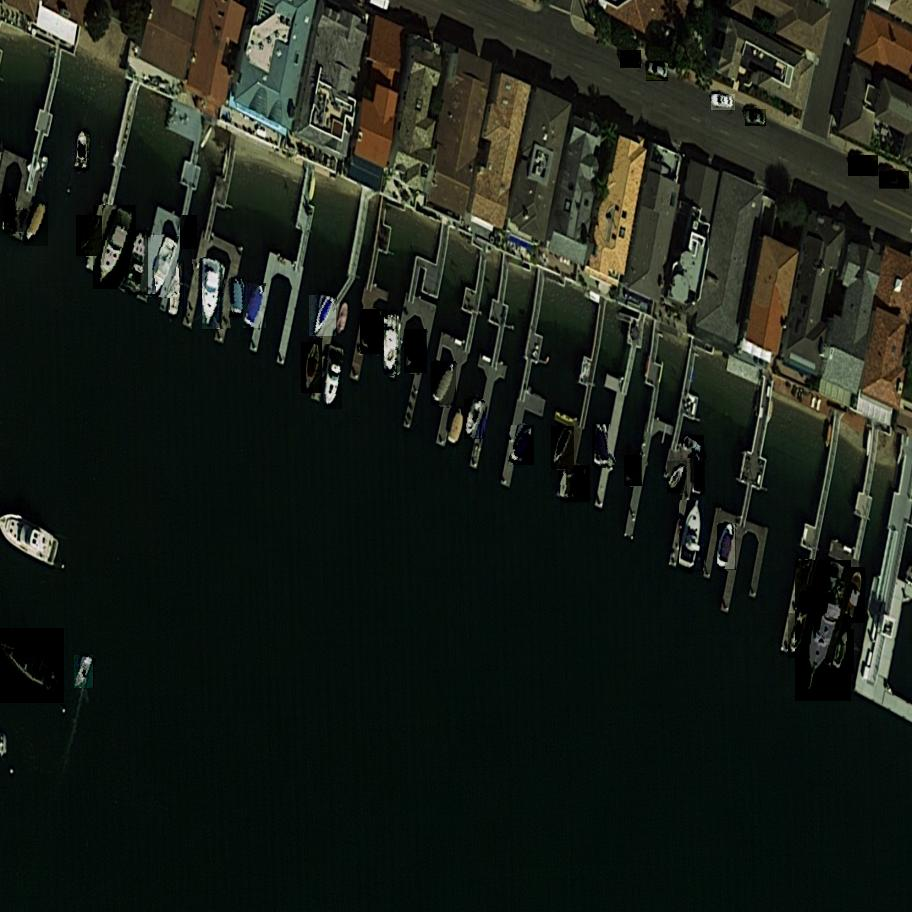ship: (793, 560, 853, 701), (92, 205, 138, 289), (146, 235, 181, 298), (679, 501, 707, 571), (128, 231, 150, 295), (359, 309, 390, 354), (842, 567, 867, 622), (202, 258, 221, 329), (323, 344, 343, 409), (308, 295, 338, 337), (431, 362, 459, 406), (75, 216, 104, 257), (22, 202, 49, 246), (301, 342, 324, 393), (507, 425, 536, 465), (403, 329, 429, 373), (243, 284, 268, 329), (787, 613, 812, 658), (551, 427, 576, 469), (565, 465, 592, 502), (834, 629, 855, 674), (717, 523, 737, 570), (464, 399, 486, 439), (665, 461, 690, 493), (170, 261, 184, 318), (593, 423, 611, 467), (74, 656, 97, 689), (385, 317, 396, 375), (180, 216, 199, 249), (624, 455, 643, 486), (681, 436, 706, 458), (231, 277, 244, 316), (77, 132, 88, 171), (13, 210, 32, 232), (5, 192, 15, 233), (695, 453, 704, 495), (560, 470, 571, 500)
small-vehicle: (846, 155, 880, 177), (643, 61, 671, 82), (878, 172, 911, 189), (618, 51, 643, 69), (710, 94, 736, 111), (743, 109, 768, 126)
